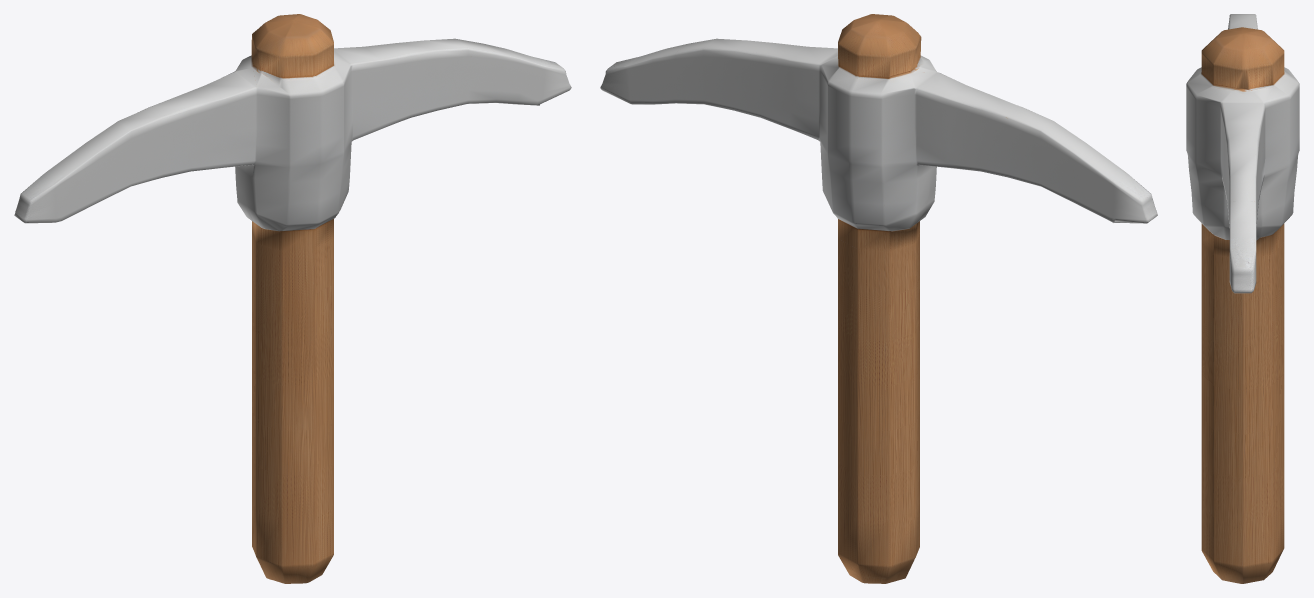
Rendered from Pickaxe_Stone.fbx.
The picture shows the model from 3 angles, left to right: view 1: azimuth 30°, elevation 25°; view 2: azimuth 150°, elevation 25°; view 3: azimuth 270°, elevation 25°; orthographic projection. The views are drawn at different scales.
Visible parts, largest first — view 1: Mesh_0; view 2: Mesh_0; view 3: Mesh_0.
Part boxes in pixels (x1=…): Mesh_0: x1=14, y1=14, x2=571, y2=583; Mesh_0: x1=600, y1=14, x2=1157, y2=583; Mesh_0: x1=1186, y1=14, x2=1299, y2=583.
Bounding box in the file's own units: 191 × 186 × 34.83.
Materials: 1 (1 with a texture image).
